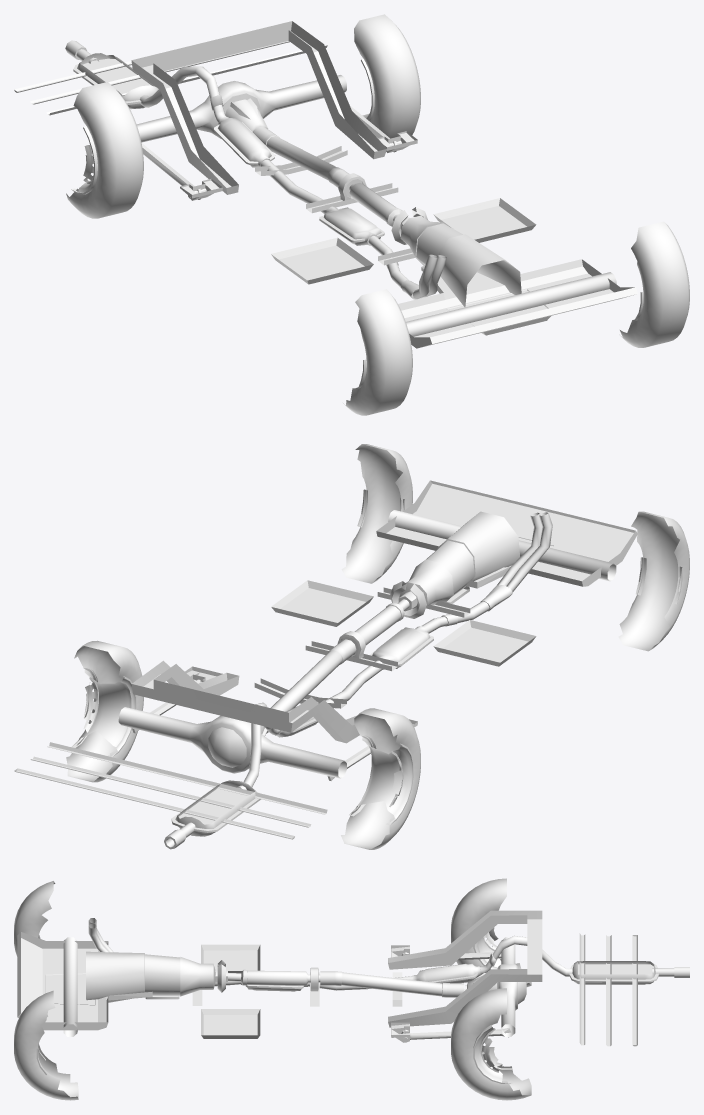
The picture shows the model from 3 angles, top to bottom: view 1: azimuth 30°, elevation 25°; view 2: azimuth 150°, elevation 25°; view 3: azimuth 270°, elevation 25°; orthographic projection. The views are drawn at different scales.
Size of the model in its own units: 1.65 by 0.6222 by 3.73.
Materials: 1 (1 with a texture image).
